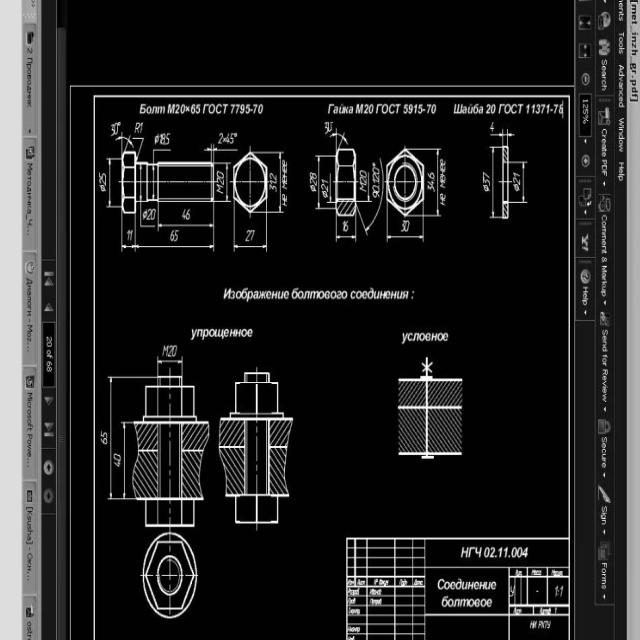marking_line: (354, 204, 380, 238), (108, 379, 113, 497), (135, 244, 213, 251), (158, 222, 213, 228), (435, 150, 440, 215), (123, 425, 127, 498), (388, 233, 424, 241), (491, 147, 495, 217), (107, 157, 112, 208), (233, 243, 267, 250), (119, 136, 130, 152), (521, 162, 525, 202), (317, 158, 320, 208), (159, 359, 182, 365), (337, 233, 356, 240), (279, 154, 281, 212), (118, 244, 135, 249), (490, 132, 502, 139), (508, 132, 517, 138)
numeric: (371, 167, 381, 204), (218, 129, 237, 147), (243, 226, 255, 244), (270, 170, 278, 197), (321, 120, 334, 136), (426, 170, 434, 196), (133, 121, 145, 137), (160, 131, 171, 147), (168, 230, 181, 243), (181, 208, 194, 220), (306, 173, 318, 186), (168, 345, 179, 359), (401, 219, 411, 234), (512, 171, 522, 186), (320, 177, 330, 191), (216, 169, 224, 186), (98, 172, 108, 185), (341, 221, 351, 234), (359, 169, 368, 183), (482, 169, 491, 183), (113, 451, 120, 469), (147, 208, 156, 221), (109, 124, 118, 137), (101, 432, 108, 447), (126, 229, 134, 242), (490, 116, 495, 132)
special_symbol: (141, 209, 148, 220)
